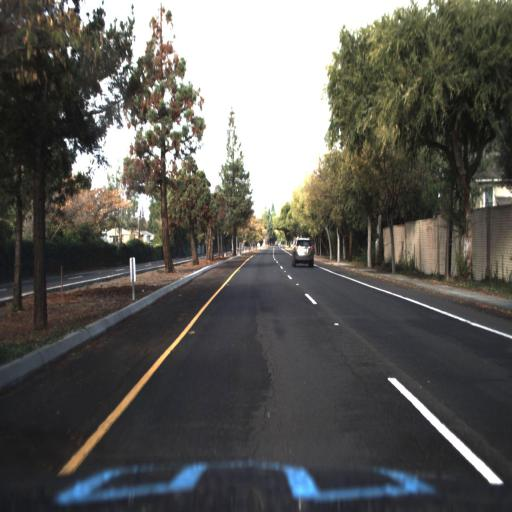car: (291, 235, 315, 269)
